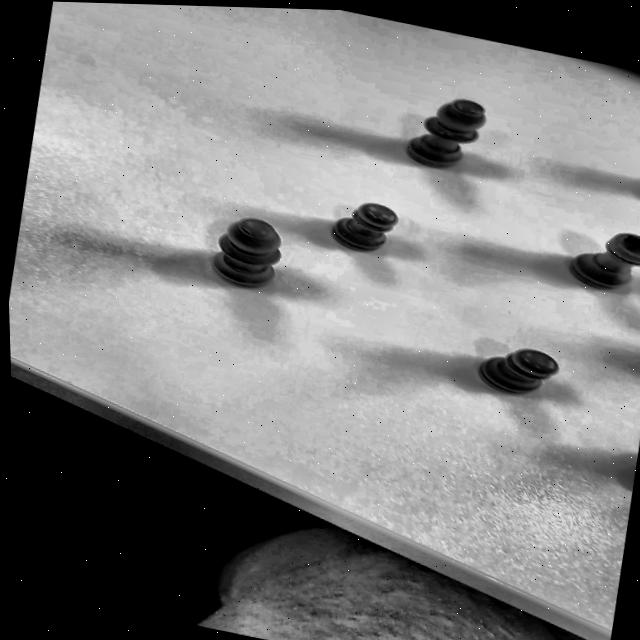black-bishop: (388, 76, 507, 193), (188, 198, 307, 307)
black-pawn: (462, 325, 573, 417), (315, 187, 414, 266)
black-rook: (544, 207, 640, 310)
